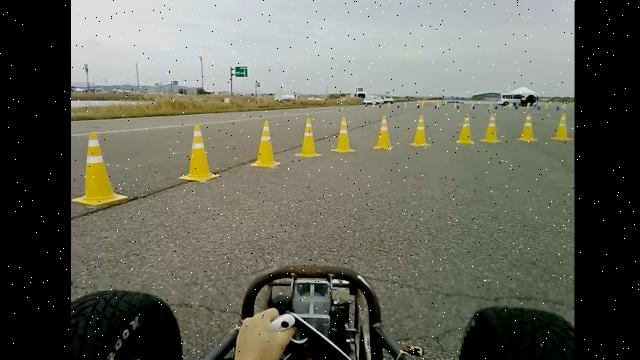yellow cone: (72, 130, 128, 206), (179, 124, 220, 182), (250, 120, 281, 168), (294, 117, 323, 158), (331, 115, 357, 153), (373, 115, 395, 150), (479, 112, 503, 143), (409, 114, 432, 146), (550, 112, 573, 141), (517, 112, 538, 142), (456, 113, 475, 144)
